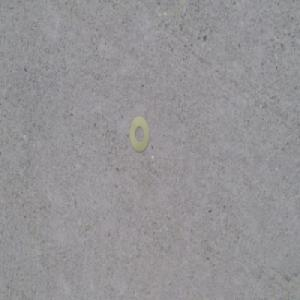Washer: (129, 116, 150, 154)
